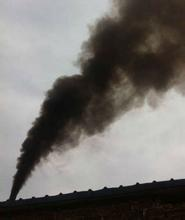smoke: (1, 1, 185, 196)
